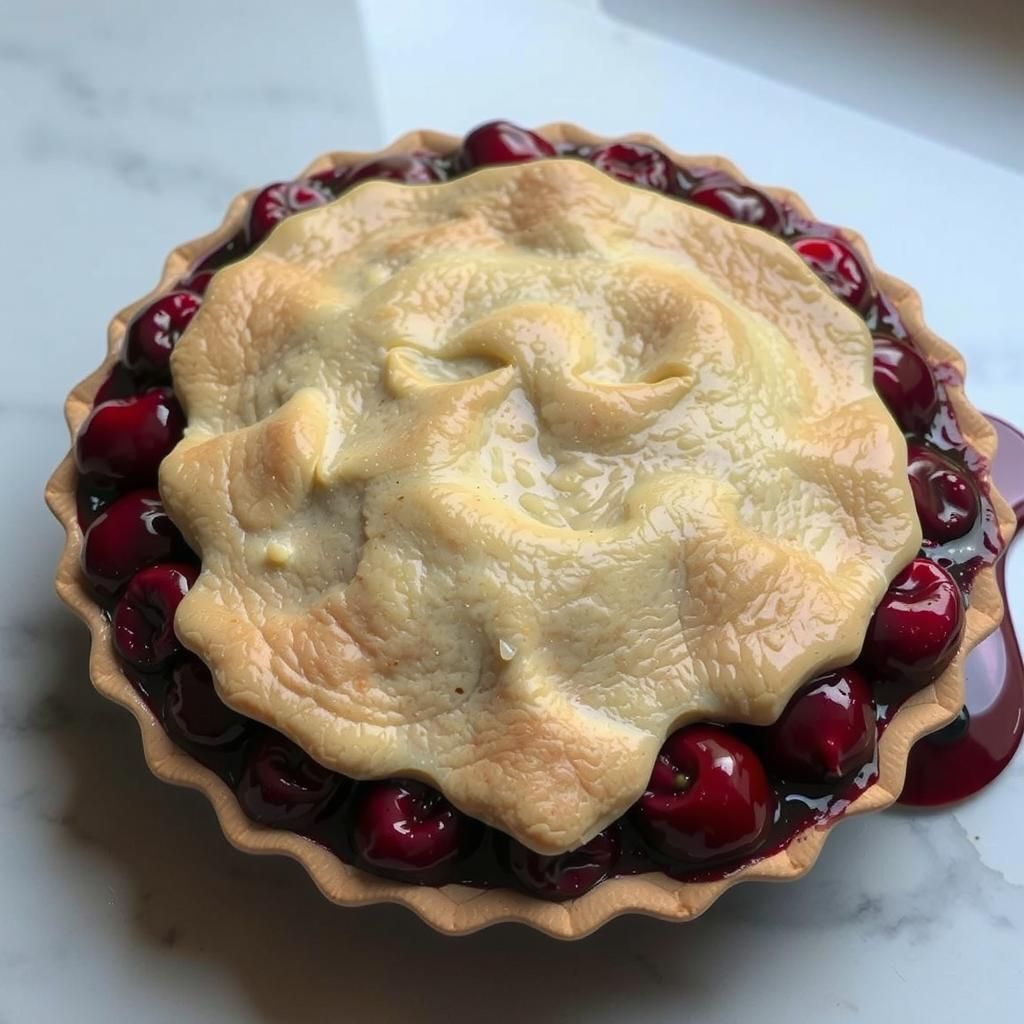pie: (39, 109, 1024, 953)
